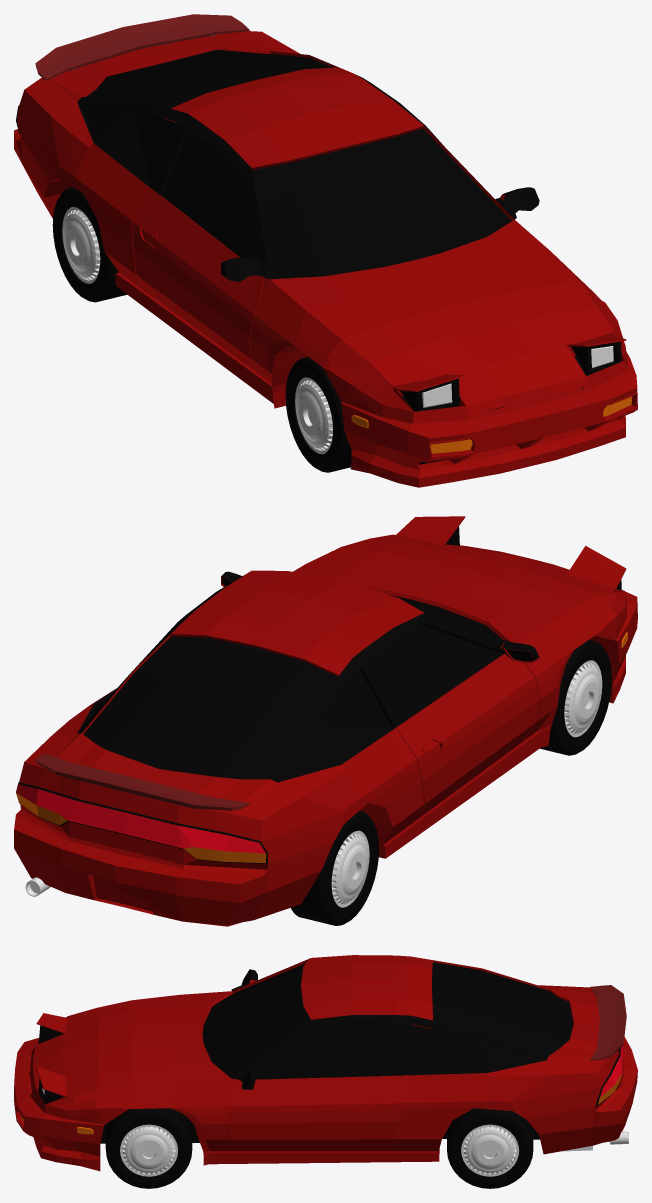
3 renders of one model, top to bottom at view 1: azimuth 30°, elevation 25°; view 2: azimuth 150°, elevation 25°; view 3: azimuth 270°, elevation 25°, orthographic. The views are drawn at different scales.
Visible parts, largest first — view 1: Куб, Цилиндр.001, Куб.001, Цилиндр.003, Куб.003, Куб.004; view 2: Куб, Цилиндр.003, Цилиндр.001, Куб.001, Куб.003, Куб.004; view 3: Куб, Цилиндр, Цилиндр.002, Куб.001, Куб.004, Куб.003, Куб.006.
Boxes of the visible parts, box(x1,y1,x2,y2) form: Куб: box(14, 31, 637, 487); Цилиндр.001: box(285, 356, 351, 472); Куб.001: box(35, 14, 249, 80); Цилиндр.003: box(52, 187, 126, 302); Куб.003: box(393, 374, 465, 411); Куб.004: box(567, 335, 626, 375); Куб: box(14, 534, 637, 926); Цилиндр.003: box(291, 811, 379, 925); Цилиндр.001: box(540, 639, 611, 755); Куб.001: box(35, 753, 249, 810); Куб.003: box(567, 545, 626, 591); Куб.004: box(396, 516, 465, 545); Куб: box(14, 955, 637, 1171); Цилиндр: box(105, 1108, 192, 1188); Цилиндр.002: box(447, 1108, 533, 1188); Куб.001: box(590, 985, 626, 1060); Куб.004: box(36, 1066, 68, 1104); Куб.003: box(36, 1013, 67, 1043); Куб.006: box(100, 1114, 539, 1143).
Size of what is drawn, in the model's own units: 451 by 192 by 130.
